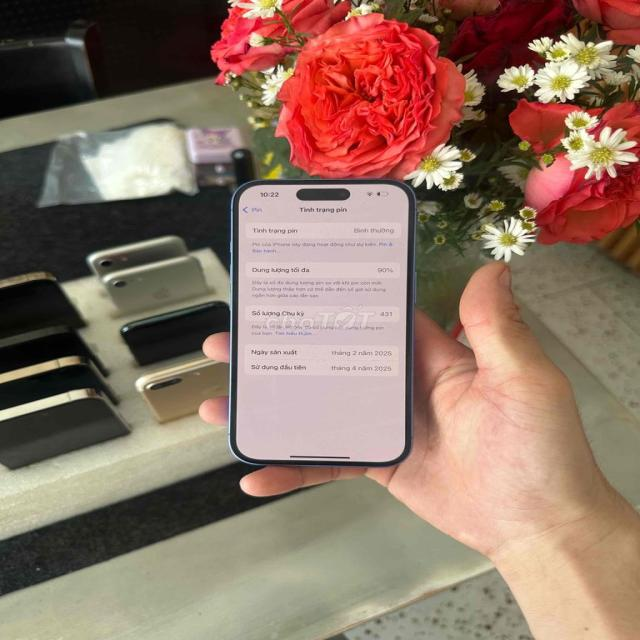gen_16: (228, 179, 416, 470)
